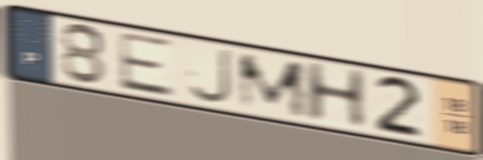2: (373, 74, 427, 143)
8: (57, 22, 109, 87)
E: (114, 29, 178, 100)
H: (301, 59, 370, 130)
J: (185, 45, 235, 107)
M: (235, 52, 311, 121)
